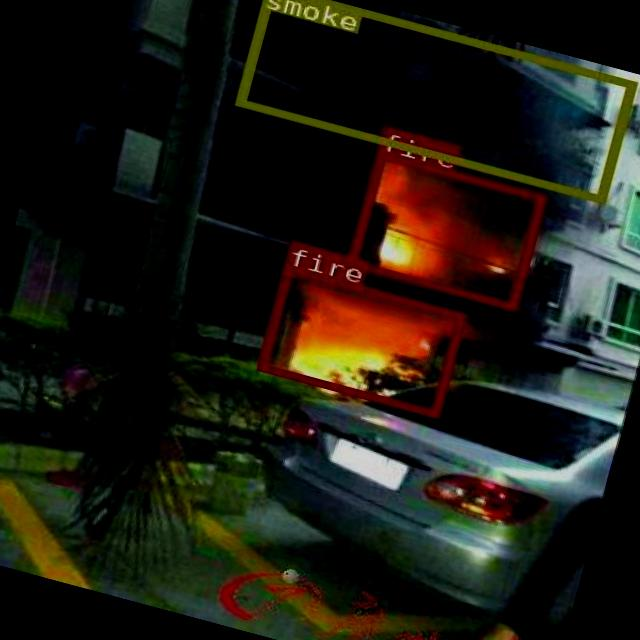fire: (256, 263, 466, 417), (345, 149, 545, 310)
smoke: (234, 0, 635, 201)
